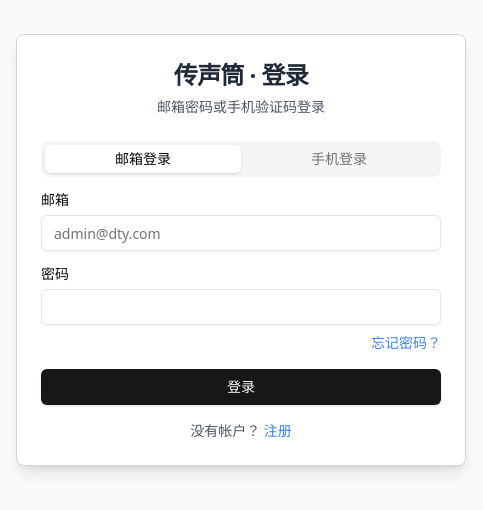
Scenario: Login Page › displays error message if login fails
This screenshot has width=483, height=510.
Type "wrong@example.com" into the field with placeholder "admin@dty.com". click: (241, 233)
box: [41, 215, 441, 251]
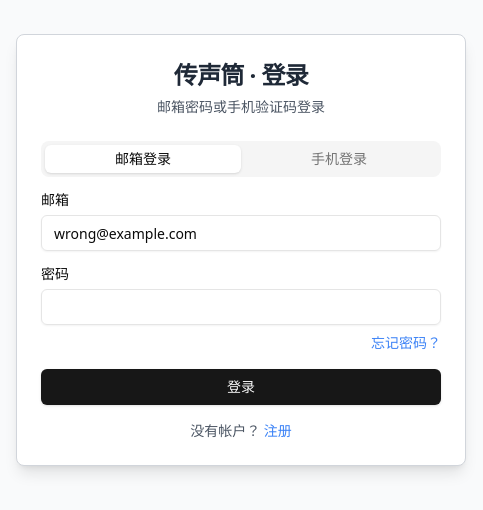
Type "wrongpass" into the password field labelled "密码". click: (241, 307)
box: [41, 289, 441, 325]
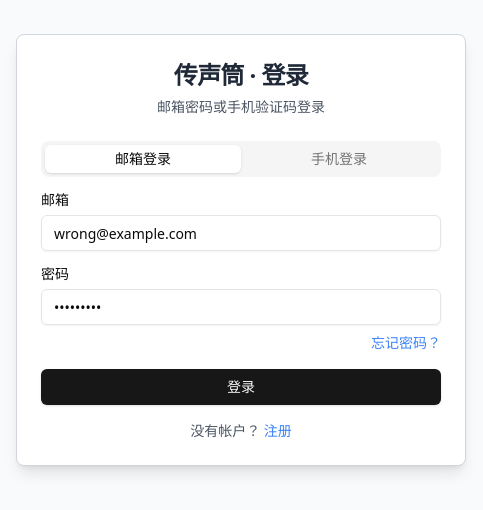
Click the button "登录". click: (241, 387)
box: [41, 369, 441, 405]
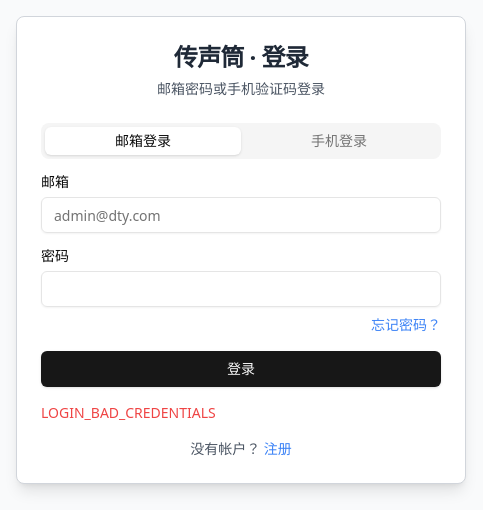
Now the text "LOGIN_BAD_CREDENTIALS" is shown, box [41, 403, 216, 422]
